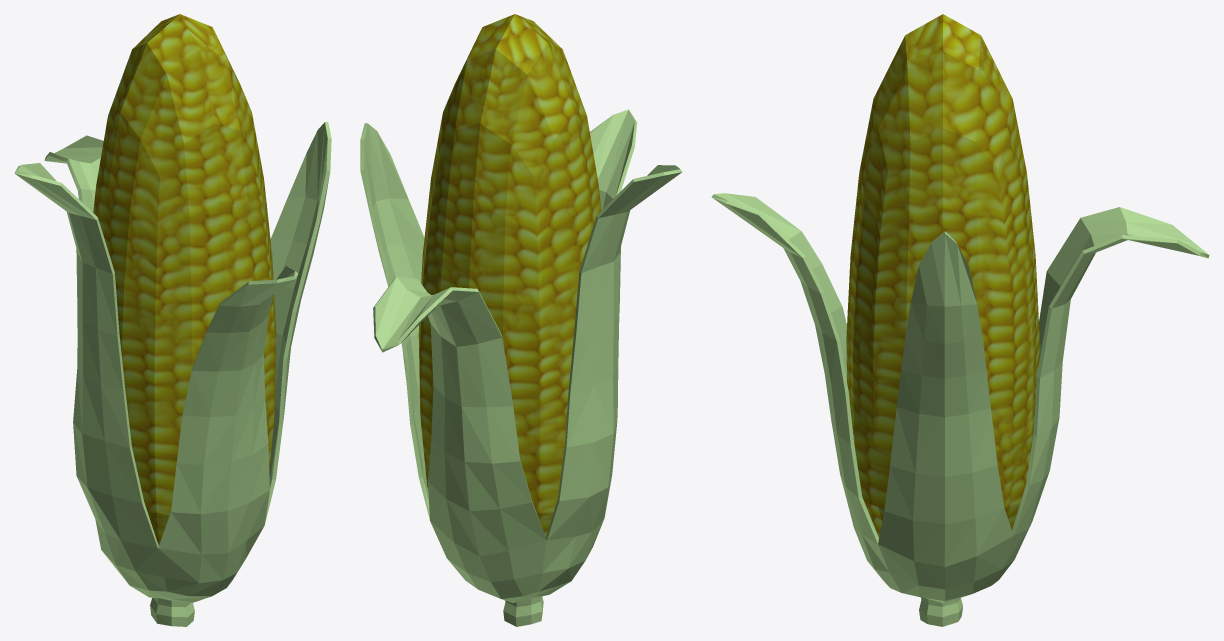
File: whole_plant.glb
The picture shows the model from 3 angles, left to right: view 1: azimuth 30°, elevation 25°; view 2: azimuth 150°, elevation 25°; view 3: azimuth 270°, elevation 25°; orthographic projection.
Parts seen in each view (by area): view 1: Node; view 2: Node; view 3: Node.
Part boxes in pixels (<box>): Node: <box>14,14,331,626</box>; Node: <box>360,14,682,626</box>; Node: <box>711,14,1209,626</box>.
Bounding box in the file's own units: 1.14 × 2.1 × 1.55.
2 materials, 1 textured.
